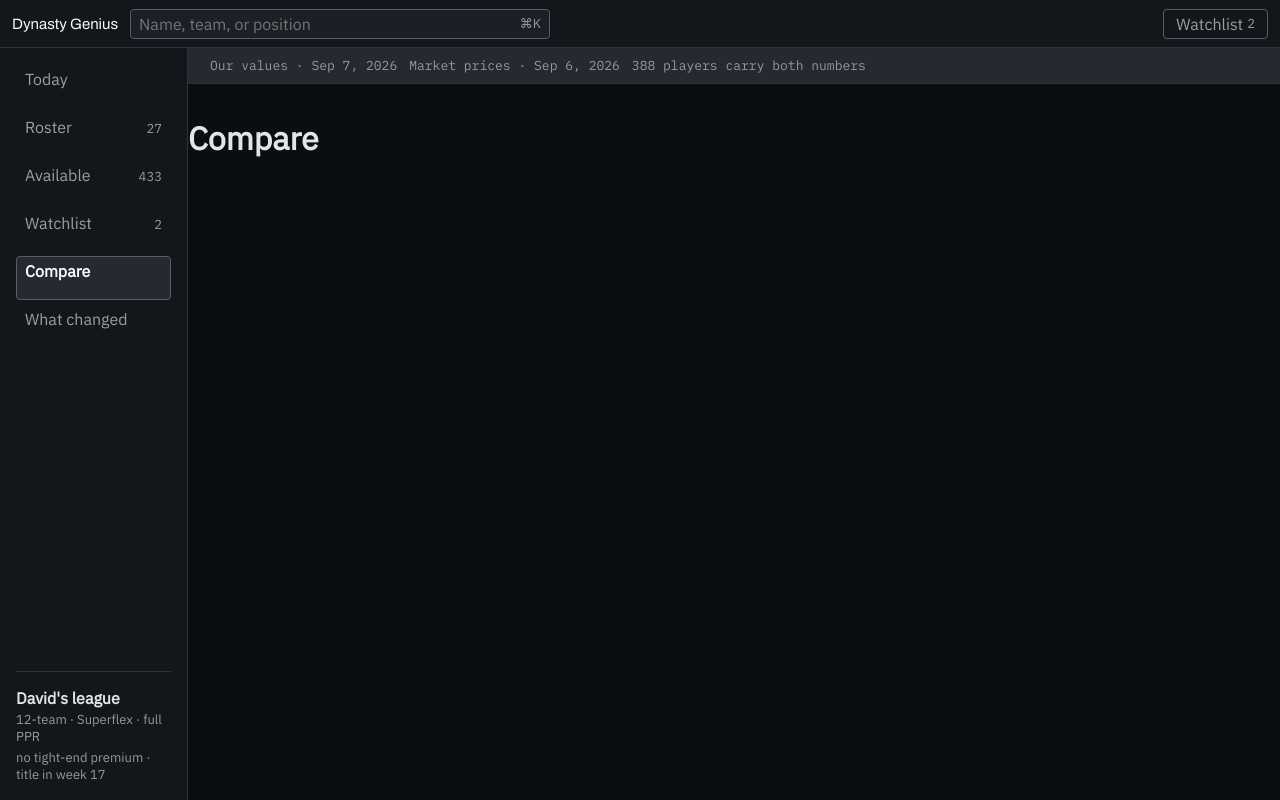
Test: WorkspaceFrame — where the numbers come from › adds the ownership date and the precise capture time when the disclosure is opened
Click the heading with class "dg-workspace__source-strip" at (734, 66), box left=188, top=48, right=1279, bottom=84
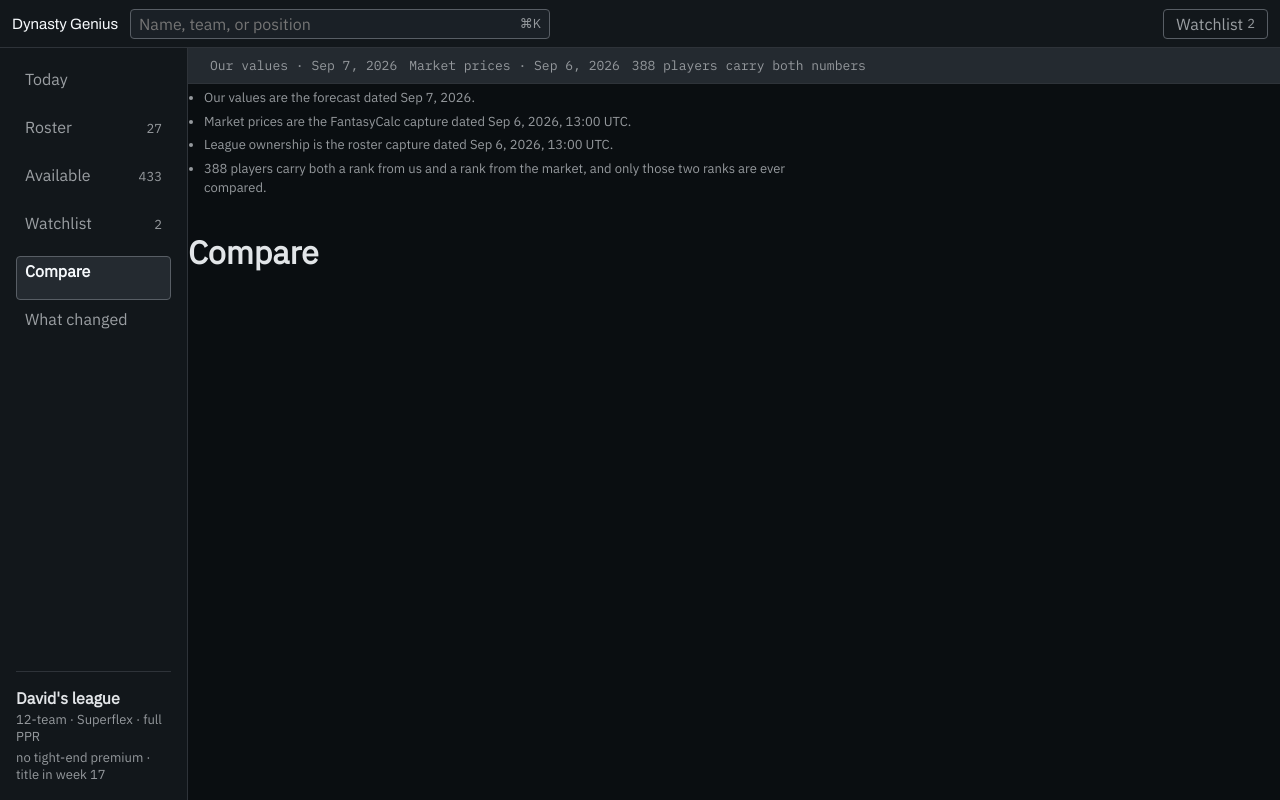
Expected: the list item "League ownership is the roster capture dated Sep 6, 2026, 13:00 UTC" is shown, left=204, top=136, right=613, bottom=153
Expected: the list item "Market prices are the FantasyCalc capture dated Sep 6, 2026, 13:00 UTC" is shown, left=204, top=112, right=631, bottom=130
